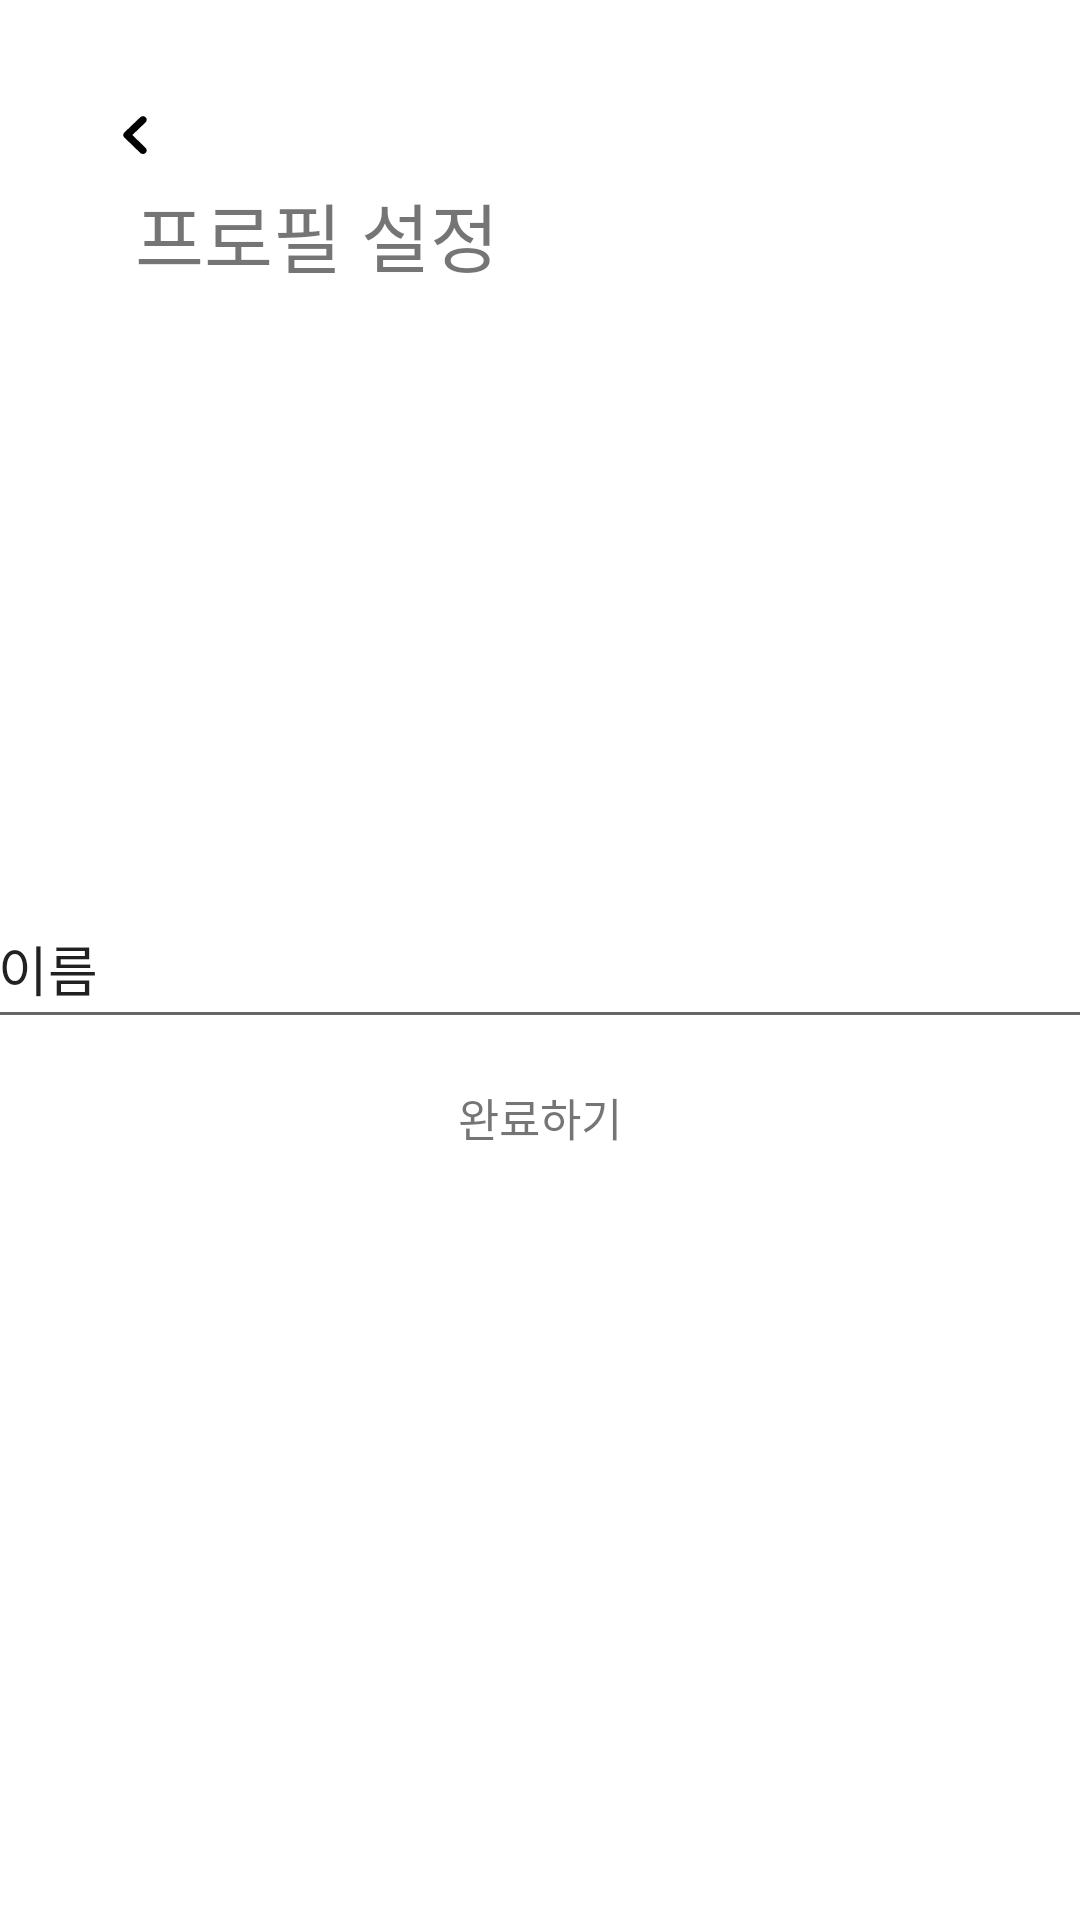

Point at icon controls on the screen. Image size 1080×1920, points as point (x, y).
back: point (135, 135)
